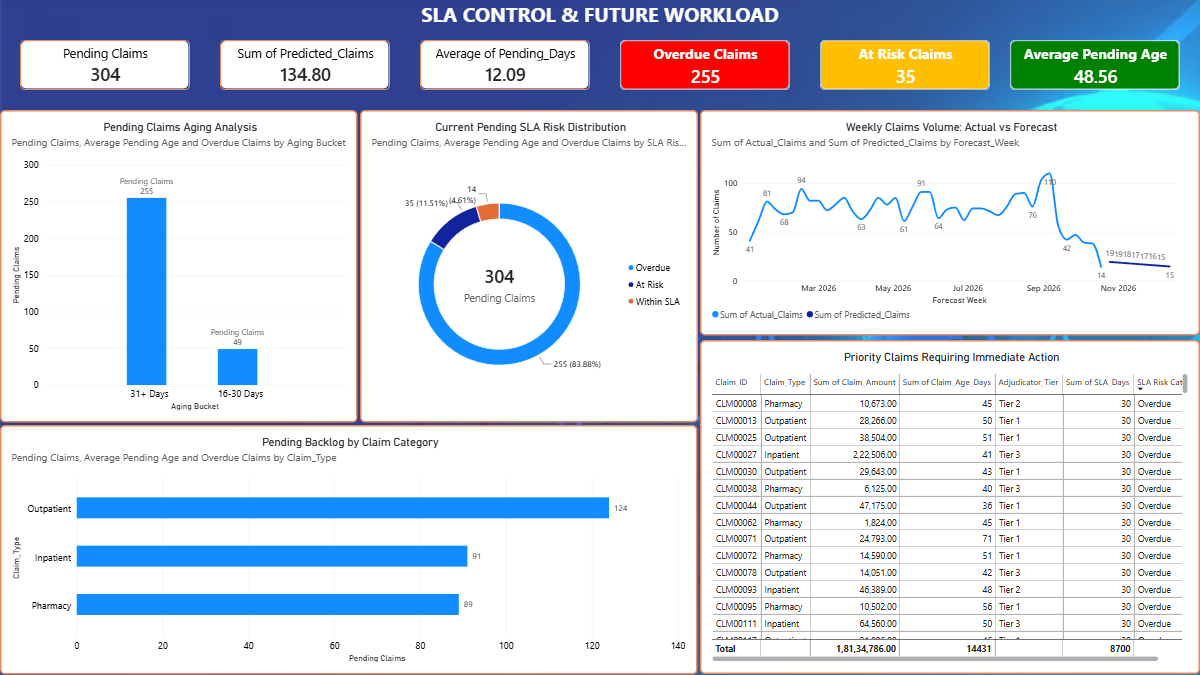

The dashboard page shown, as its layout file describes it:
{"tool":"powerbi","page":{"name":"SLA Monitoring & Predictive Operations","canvas":[1920,1080],"ordinal":2},"visuals":[{"type":"textbox","box":[0,0,1920,48],"z":0},{"type":"clusteredColumnChart","title":"Pending Claims Aging Analysis","fields":{"Category":["claims_enriched.Aging Bucket"],"Y":["claims_enriched.Pending Claims"]},"box":[0,176,572,500],"z":1000},{"type":"donutChart","title":"Current Pending SLA Risk Distribution","fields":{"Category":["claims_enriched.SLA Risk Category"],"Y":["claims_enriched.Pending Claims"]},"box":[576,176,541,500],"z":2000},{"type":"clusteredBarChart","title":"Pending Backlog by Claim Category","fields":{"Category":["claims_enriched.Claim_Type"],"Y":["claims_enriched.Pending Claims"]},"box":[0,680,1116,399],"z":3000},{"type":"lineChart","title":"Weekly Claims Volume: Actual vs Forecast","fields":{"Category":["claims_forecast.Forecast_Week.Variation.Date Hierarchy.Year"],"Y":["Sum(claims_forecast.Actual_Claims)","Sum(claims_forecast.Predicted_Claims)"]},"box":[1120,176,800,361],"z":4000},{"type":"tableEx","title":"Priority Claims Requiring Immediate Action","fields":{"Values":["claims_enriched.Claim_ID","claims_enriched.Claim_Type","Sum(claims_enriched.Claim_Amount)","Sum(claims_enriched.Claim_Age_Days)","claims_enriched.Adjudicator_Tier","Sum(claims_enriched.SLA_Days)","claims_enriched.SLA Risk Category"]},"box":[1120,544,800,534],"z":5000},{"type":"cardVisual","fields":{"Data":["Stage Analysis.Overdue Claims"]},"box":[992,64,272,80],"z":6000},{"type":"cardVisual","fields":{"Data":["Stage Analysis.At Risk Claims"]},"box":[1312,64,272,80],"z":7000},{"type":"cardVisual","fields":{"Data":["Stage Analysis.Average Pending Age"]},"box":[1616,64,272,80],"z":8000},{"type":"cardVisual","fields":{"Data":["claims_enriched.Pending Claims"]},"box":[32,64,272,80],"z":9000},{"type":"cardVisual","fields":{"Data":["Avg(claims_enriched.Pending_Days)"]},"box":[672,64,272,80],"z":10000},{"type":"cardVisual","fields":{"Data":["Sum(claims_forecast.Predicted_Claims)"]},"box":[352,64,272,80],"z":11000}]}

Visuals, with their boxes in screenshot pixels (x1, y1, x2, y2), scaled from the page's 1920x1080 canvas onto the 1200x675 screenshot:
textbox: {"x1": 0, "y1": 0, "x2": 1199, "y2": 30}
"Pending Claims Aging Analysis" clusteredColumnChart: {"x1": 0, "y1": 110, "x2": 358, "y2": 422}
"Current Pending SLA Risk Distribution" donutChart: {"x1": 360, "y1": 110, "x2": 698, "y2": 422}
"Pending Backlog by Claim Category" clusteredBarChart: {"x1": 0, "y1": 425, "x2": 698, "y2": 674}
"Weekly Claims Volume: Actual vs Forecast" lineChart: {"x1": 700, "y1": 110, "x2": 1199, "y2": 336}
"Priority Claims Requiring Immediate Action" tableEx: {"x1": 700, "y1": 340, "x2": 1199, "y2": 674}
cardVisual - Stage Analysis.Overdue Claims: {"x1": 620, "y1": 40, "x2": 790, "y2": 90}
cardVisual - Stage Analysis.At Risk Claims: {"x1": 820, "y1": 40, "x2": 990, "y2": 90}
cardVisual - Stage Analysis.Average Pending Age: {"x1": 1010, "y1": 40, "x2": 1180, "y2": 90}
cardVisual - claims_enriched.Pending Claims: {"x1": 20, "y1": 40, "x2": 190, "y2": 90}
cardVisual - Avg(claims_enriched.Pending_Days): {"x1": 420, "y1": 40, "x2": 590, "y2": 90}
cardVisual - Sum(claims_forecast.Predicted_Claims): {"x1": 220, "y1": 40, "x2": 390, "y2": 90}
